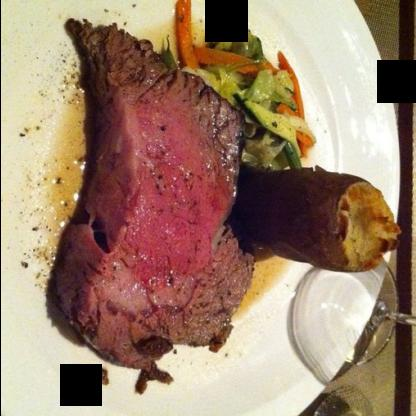beef: (54, 19, 256, 367)
